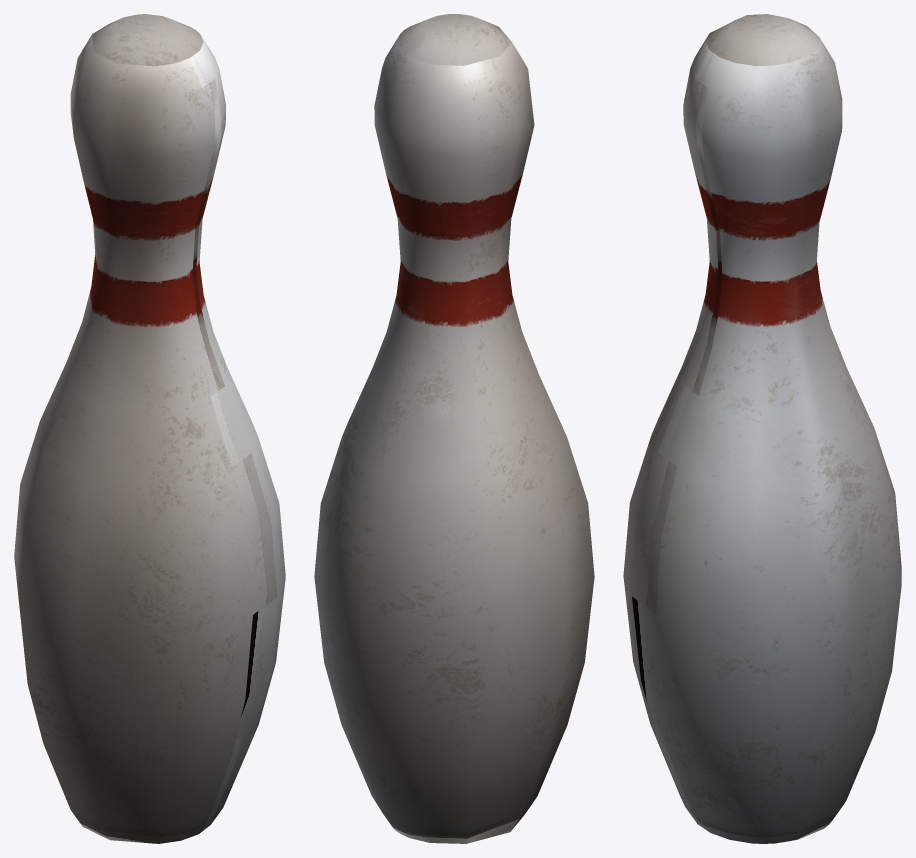
Rendered from ShootAnimation.FBX.
3 renders of one model, left to right at view 1: azimuth 30°, elevation 25°; view 2: azimuth 150°, elevation 25°; view 3: azimuth 270°, elevation 25°, orthographic.
Parts seen in each view (by area): view 1: Pin_Low_poly001; view 2: Pin_Low_poly001; view 3: Pin_Low_poly001.
Boxes of the visible parts, x1,y1,x2,y2 form: Pin_Low_poly001: [14, 14, 285, 843]; Pin_Low_poly001: [314, 14, 594, 843]; Pin_Low_poly001: [623, 14, 901, 843].
Size of the model in its own units: 47.98 by 150 by 48.04.
Materials: 1 (1 with a texture image).
